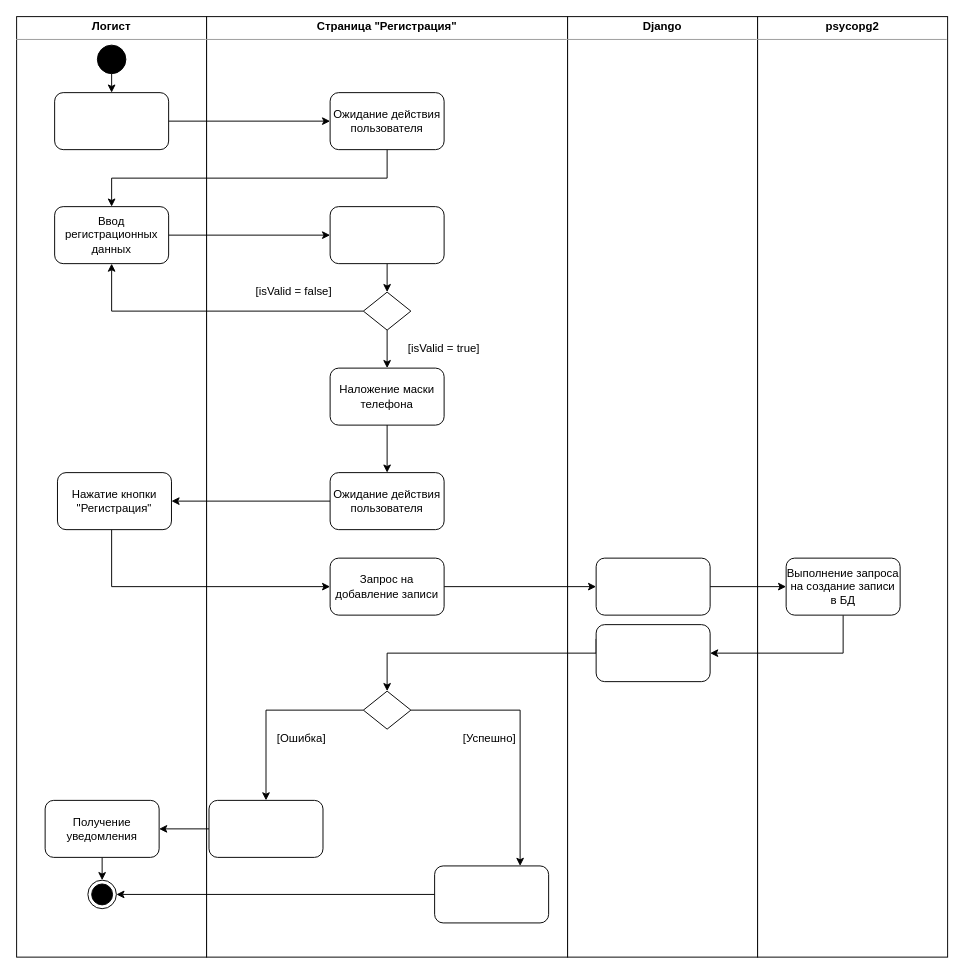
Image size: 964x974. Some labels were removed from this diagram. The centre of each missing label's shape, as x and y in pixels:
Валидация данных: point (386, 235)
Выбор пункта меню "Регистрация": point (111, 121)
Добавление записи: point (652, 586)
Завершение регистрации: point (491, 894)
Отправка ответа: point (652, 653)
Уведомление об ошибке: point (265, 828)
